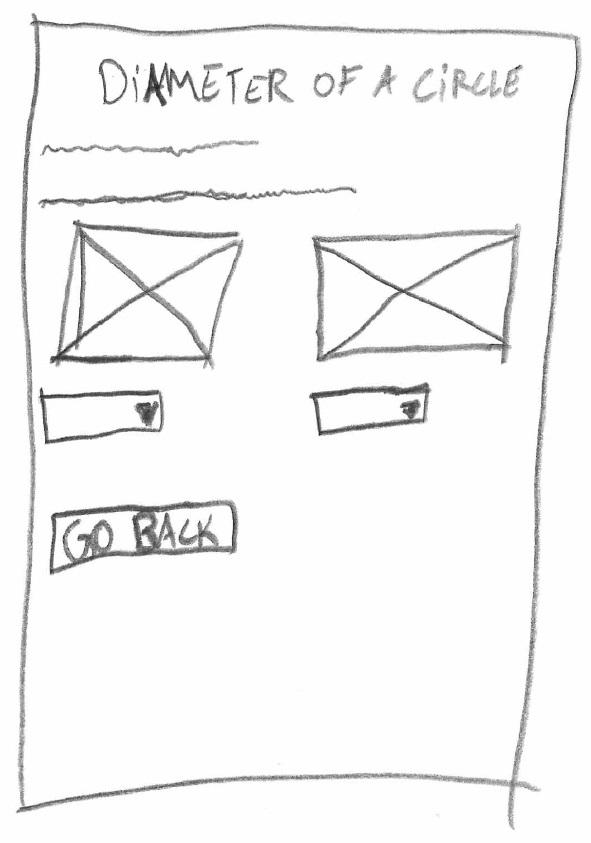Button: (52, 500, 238, 572)
Image: (52, 222, 244, 364), (315, 229, 521, 361)
Label: (101, 57, 524, 105), (40, 184, 359, 207), (39, 139, 258, 156)
ListPicker: (42, 390, 165, 444), (311, 383, 431, 435)
Screen: (16, 22, 580, 814)
